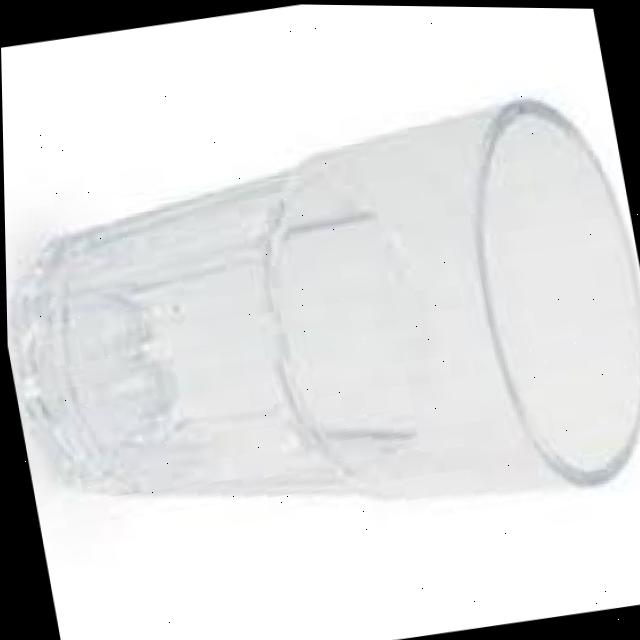Dry: (1, 72, 640, 574)
